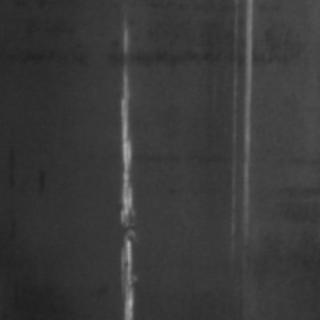scratches: (110, 19, 134, 313), (225, 0, 252, 244)
